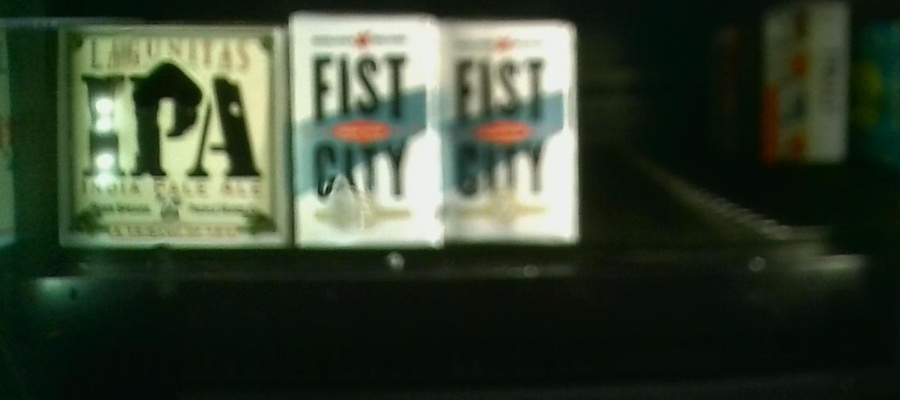bottle: (55, 23, 289, 246), (290, 8, 440, 250), (442, 13, 578, 245)
